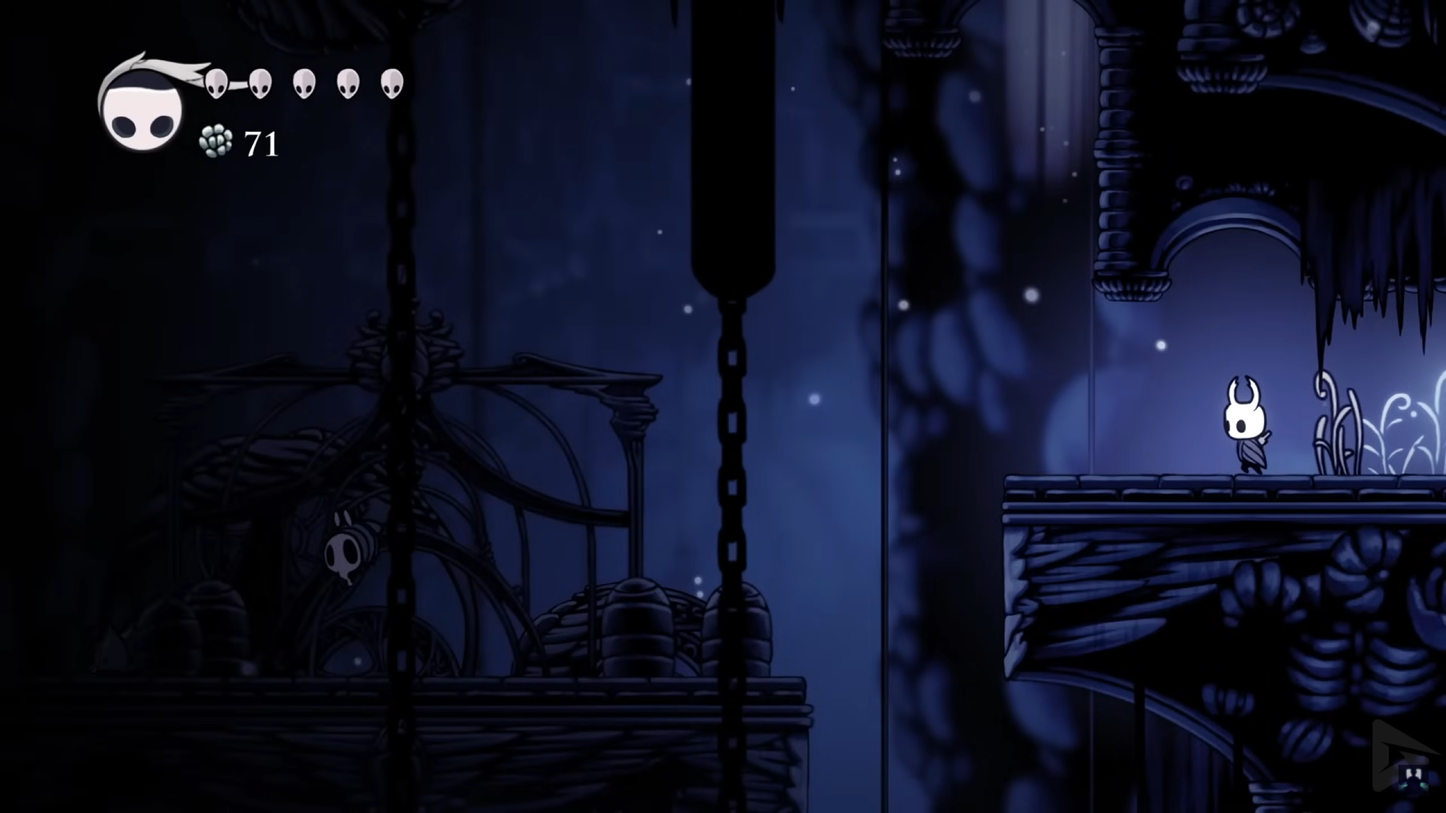HK: (1214, 370, 1274, 476)
